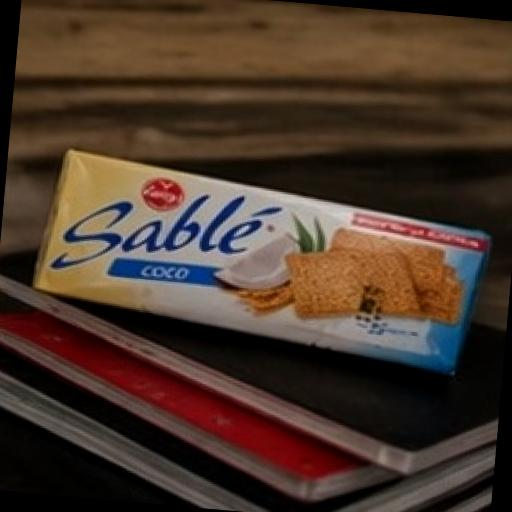sable: (5, 95, 512, 430)
